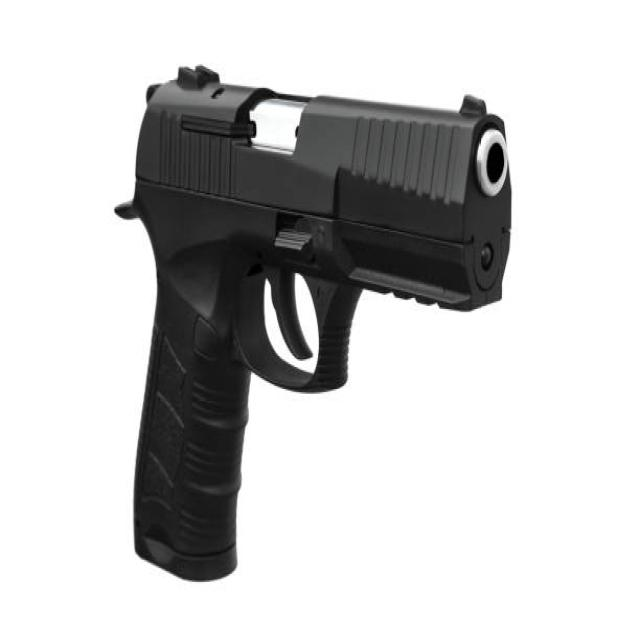pistol: (108, 54, 517, 587)
